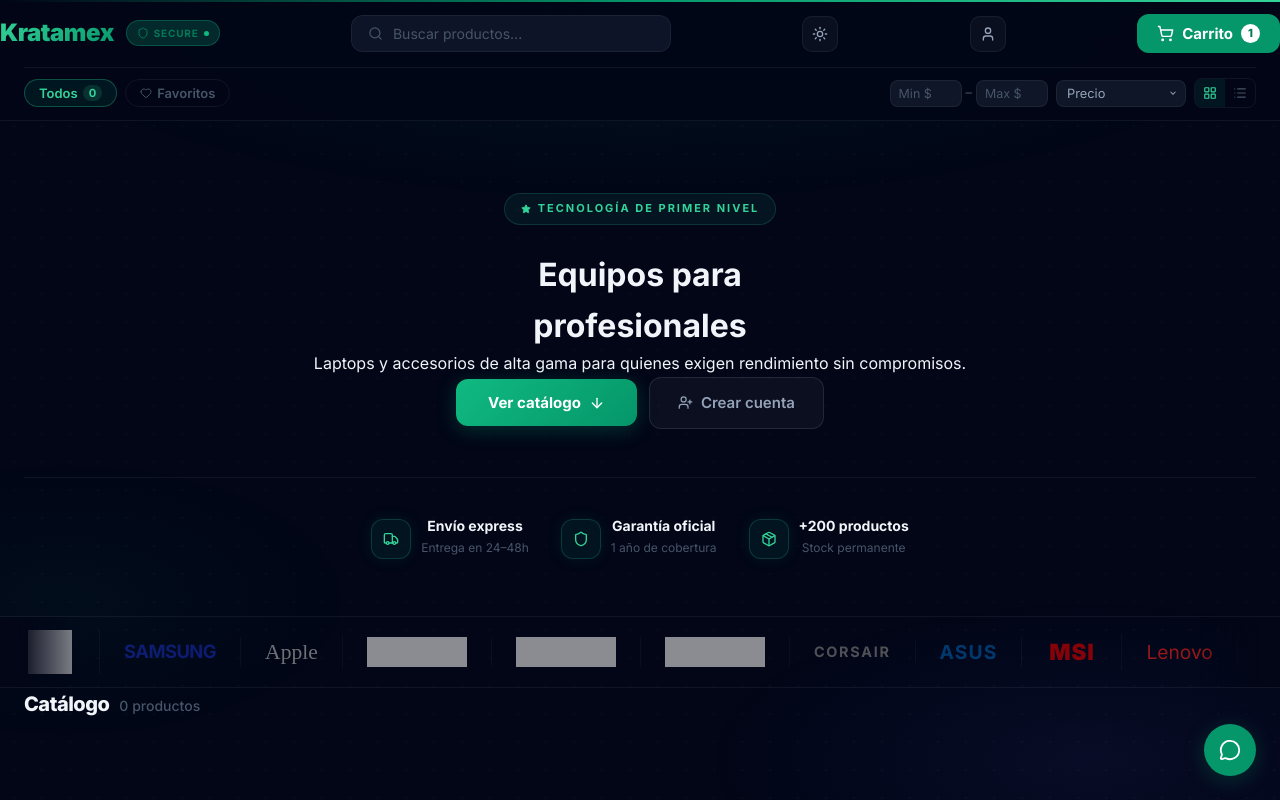
Scenario: App — filtros y UI avanzada › checkout sin nombre muestra "Nombre requerido"
Click the button "Carrito 1" at {"x": 1209, "y": 34}, box [1137,14,1279,53]
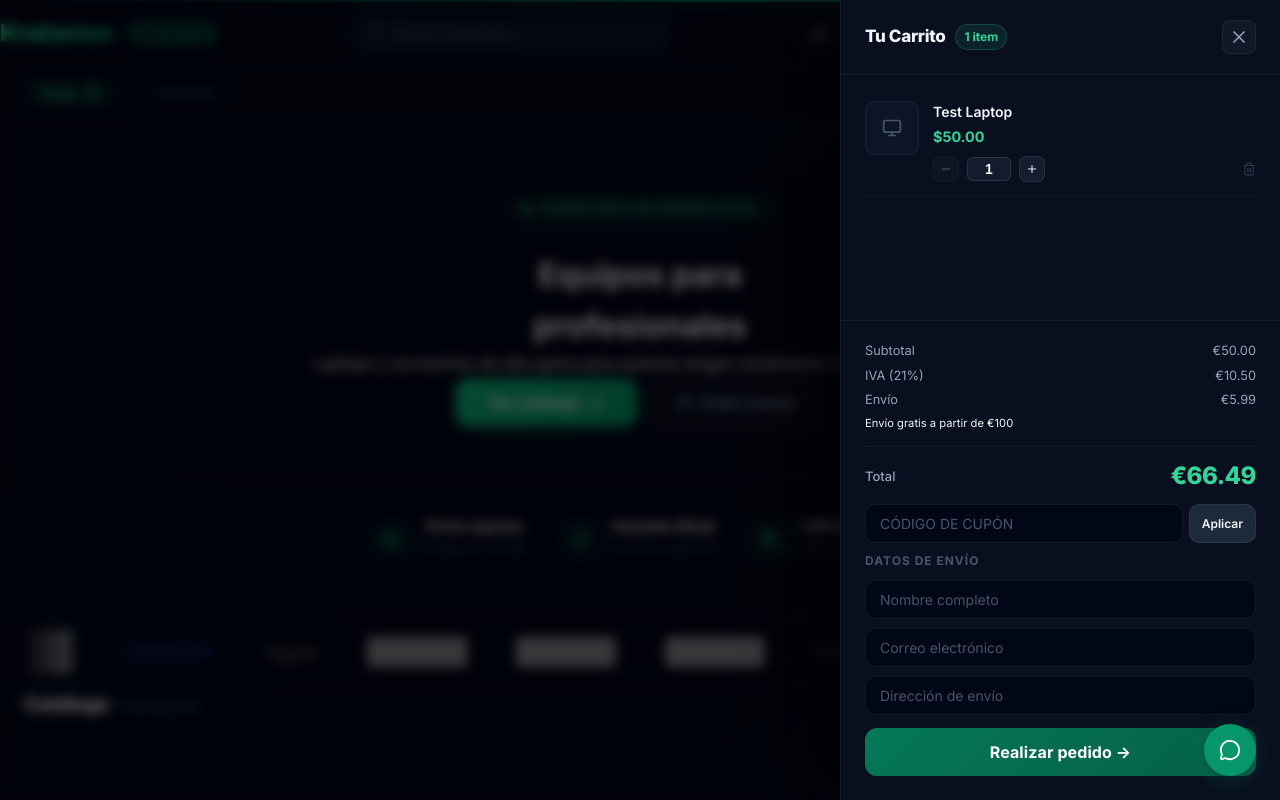
Click the button "Realizar pedido →" at {"x": 1060, "y": 752}, box [865,728,1256,776]
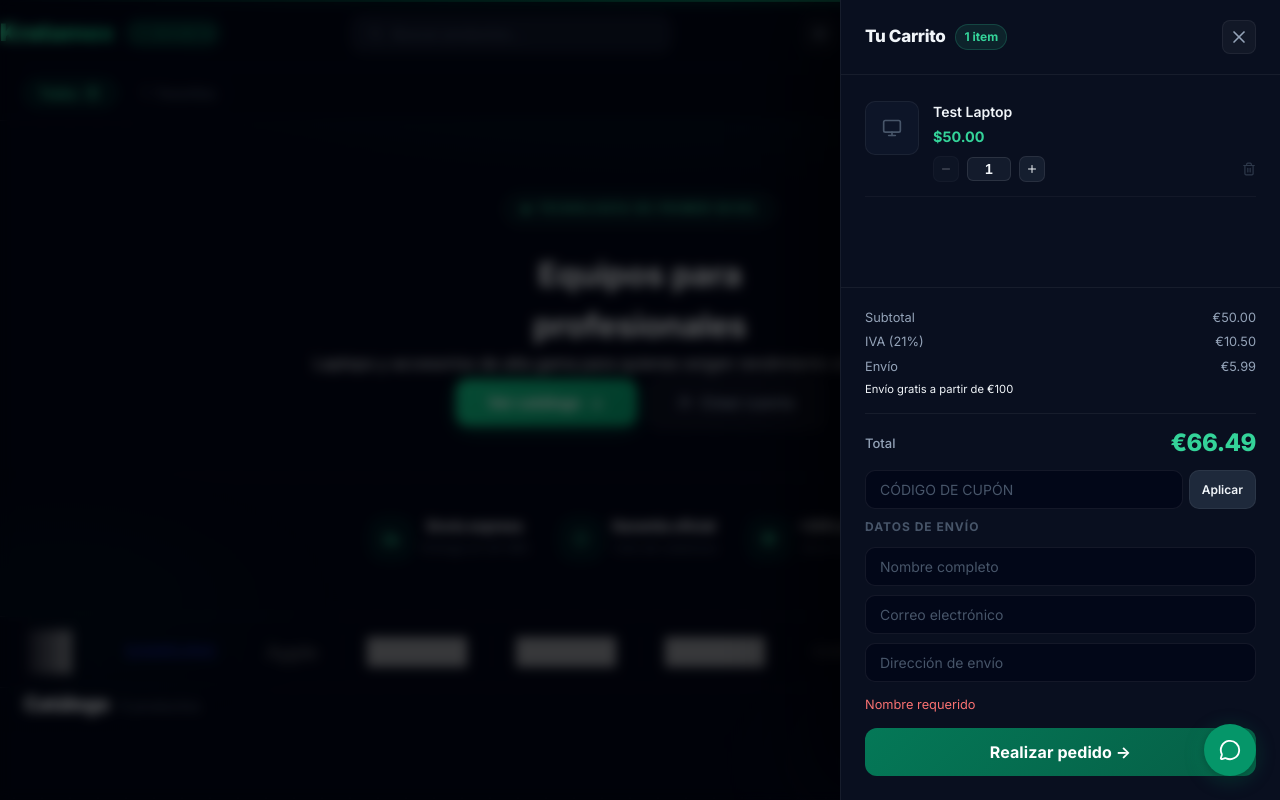
Now the text "Nombre requerido" is shown, box [865,696,976,712]
